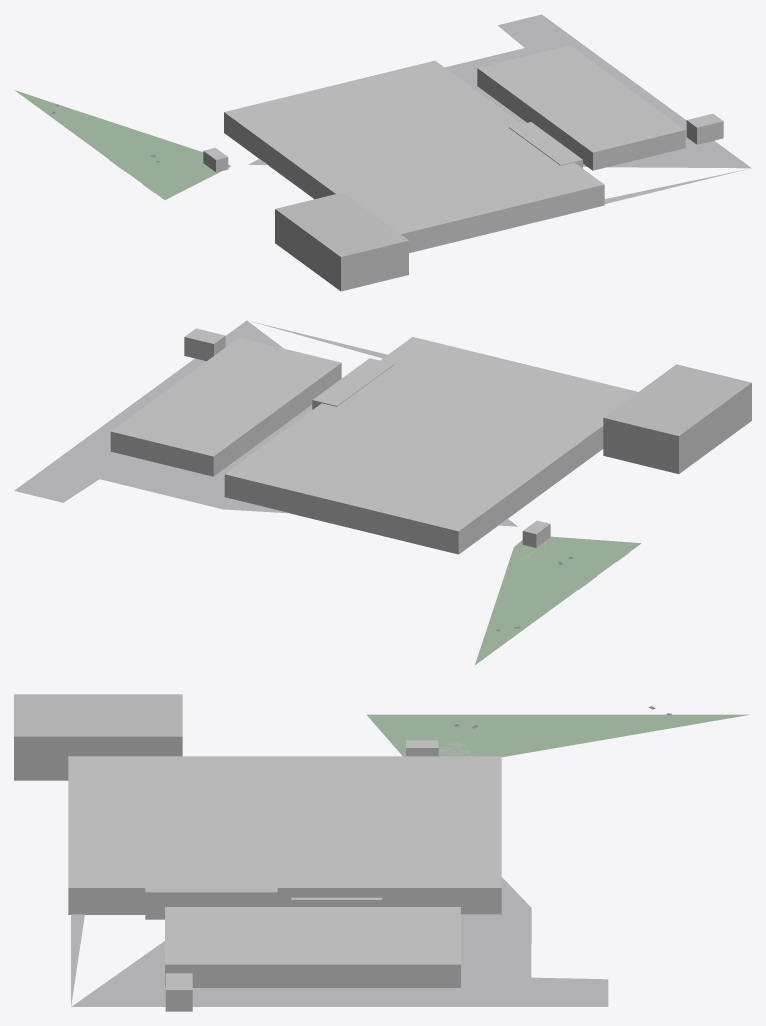
Rendered from 99_110_mid.glb.
3 renders of one model, top to bottom at view 1: azimuth 30°, elevation 25°; view 2: azimuth 150°, elevation 25°; view 3: azimuth 270°, elevation 25°, orthographic. The views are drawn at different scales.
Size of the model in its own units: 512 by 35.7 by 530.
